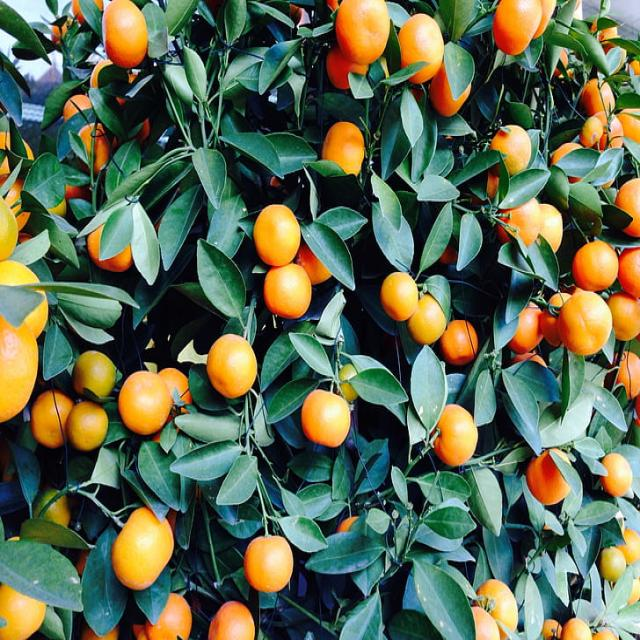orange: (115, 503, 176, 591), (513, 444, 577, 516), (242, 528, 300, 595), (101, 1, 153, 68), (562, 285, 611, 356), (120, 374, 169, 444), (256, 264, 319, 318), (207, 331, 254, 401), (332, 0, 386, 59), (397, 12, 440, 81), (254, 200, 300, 262), (304, 389, 351, 448), (490, 121, 537, 179), (572, 234, 617, 293), (322, 121, 364, 181), (438, 406, 475, 469), (490, 6, 540, 52), (595, 449, 634, 504), (376, 273, 421, 319), (212, 600, 252, 640)
